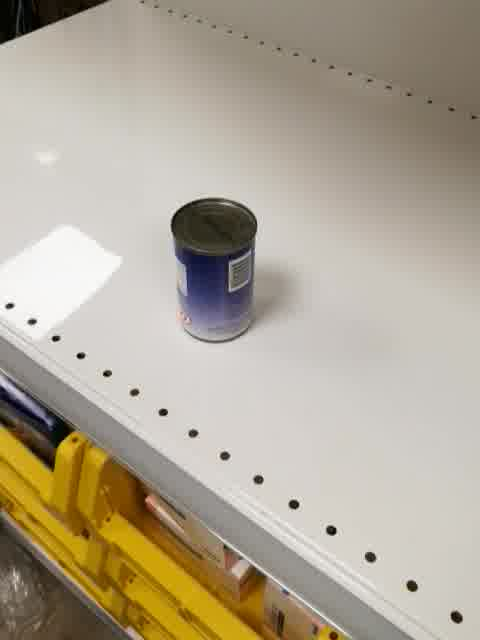sardine: (169, 197, 258, 344)
